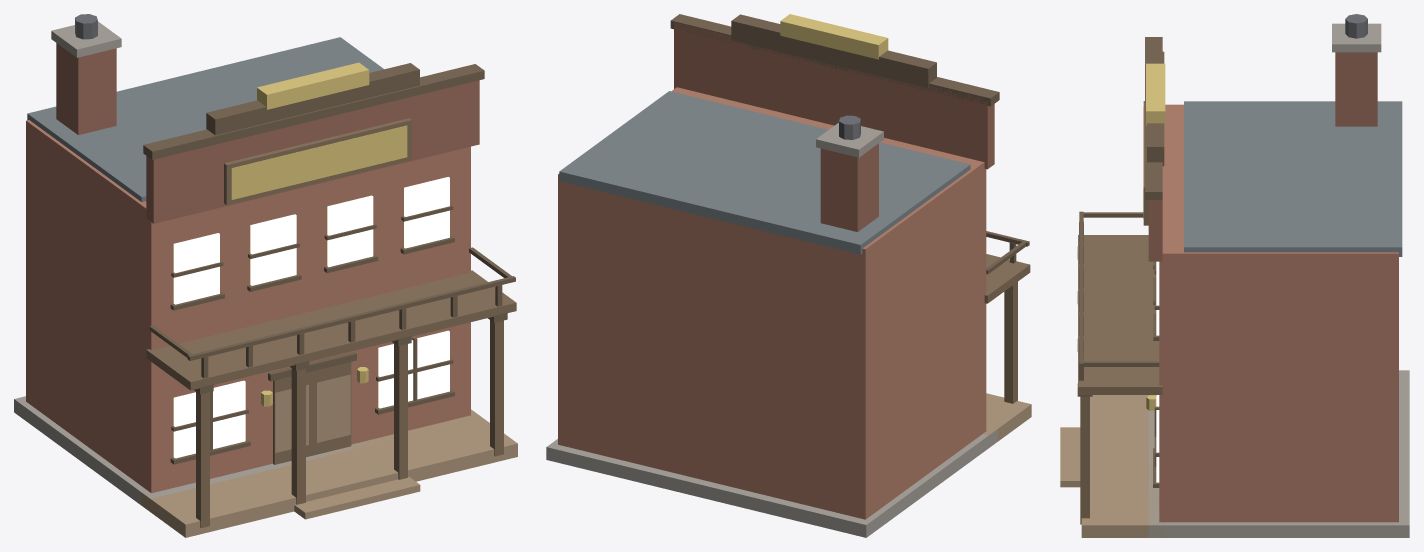
The model's file is saloon.glb.
3 renders of one model, left to right at view 1: azimuth 30°, elevation 25°; view 2: azimuth 150°, elevation 25°; view 3: azimuth 270°, elevation 25°, orthographic. The views are drawn at different scales.
Parts seen in each view (by area): view 1: saloon; view 2: saloon; view 3: saloon.
Boxes of the visible parts, x1,y1,x2,y2 form: saloon: [14, 14, 517, 537]; saloon: [546, 14, 1031, 537]; saloon: [1060, 14, 1409, 537].
Size of the model in its own units: 10.4 by 12.05 by 9.9.
